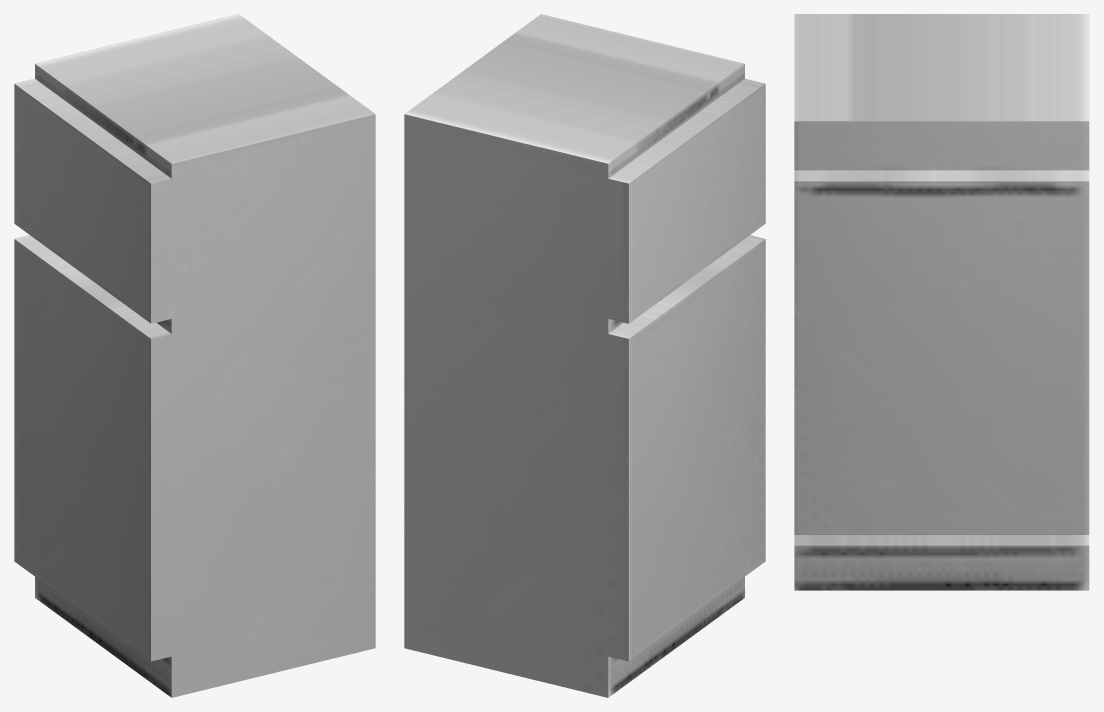
Rendered from Kitchen_Fridge.fbx.
The picture shows the model from 3 angles, left to right: view 1: azimuth 30°, elevation 25°; view 2: azimuth 150°, elevation 25°; view 3: azimuth 270°, elevation 25°; orthographic projection. The views are drawn at different scales.
Visible parts, largest first — view 1: Cuisine_Frigo.001; view 2: Cuisine_Frigo.001; view 3: Cuisine_Frigo.001.
Boxes of the visible parts, x1,y1,x2,y2 form: Cuisine_Frigo.001: (14,14,375,697); Cuisine_Frigo.001: (404,14,765,697); Cuisine_Frigo.001: (794,14,1089,590).
Size of the model in its own units: 75.79 by 172 by 80.
